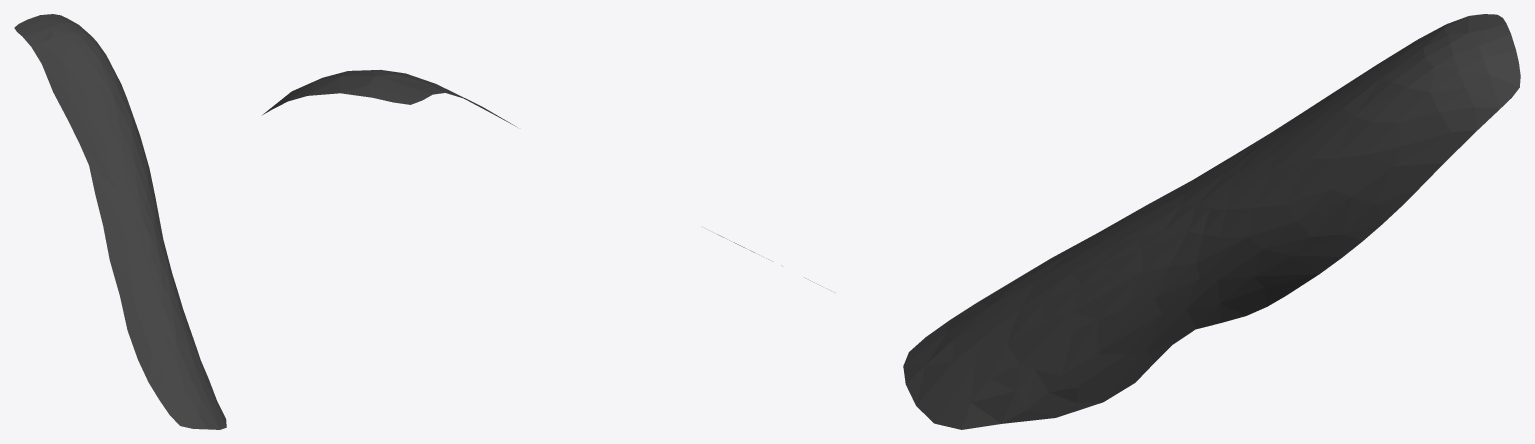
The model's file is Humerus_supracondylar_crest_medial.glb.
The picture shows the model from 3 angles, left to right: view 1: azimuth 30°, elevation 25°; view 2: azimuth 150°, elevation 25°; view 3: azimuth 270°, elevation 25°; orthographic projection. The views are drawn at different scales.
Parts seen in each view (by area): view 1: Humerus_supracondylar_crest_medial; view 2: Humerus_supracondylar_crest_medial; view 3: Humerus_supracondylar_crest_medial.
Part boxes in pixels (x1=…): Humerus_supracondylar_crest_medial: x1=14, y1=14, x2=226, y2=429; Humerus_supracondylar_crest_medial: x1=262, y1=69, x2=822, y2=286; Humerus_supracondylar_crest_medial: x1=903, y1=14, x2=1520, y2=429.
Size of the model in its own units: 0.1098 by 0.2234 by 0.3154.
1 material, 1 textured.
